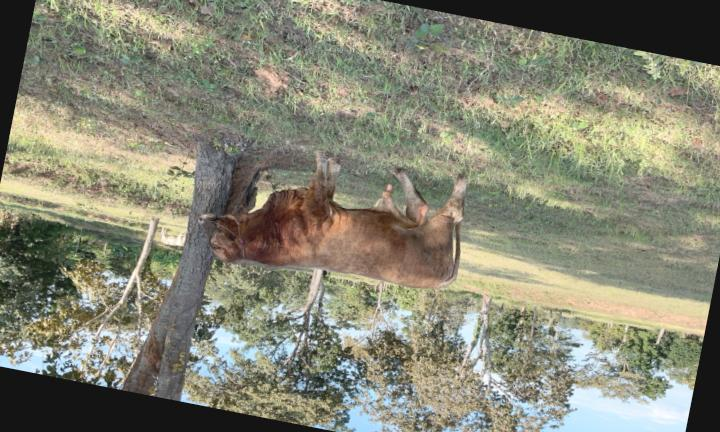Charolais: (198, 152, 466, 289)
